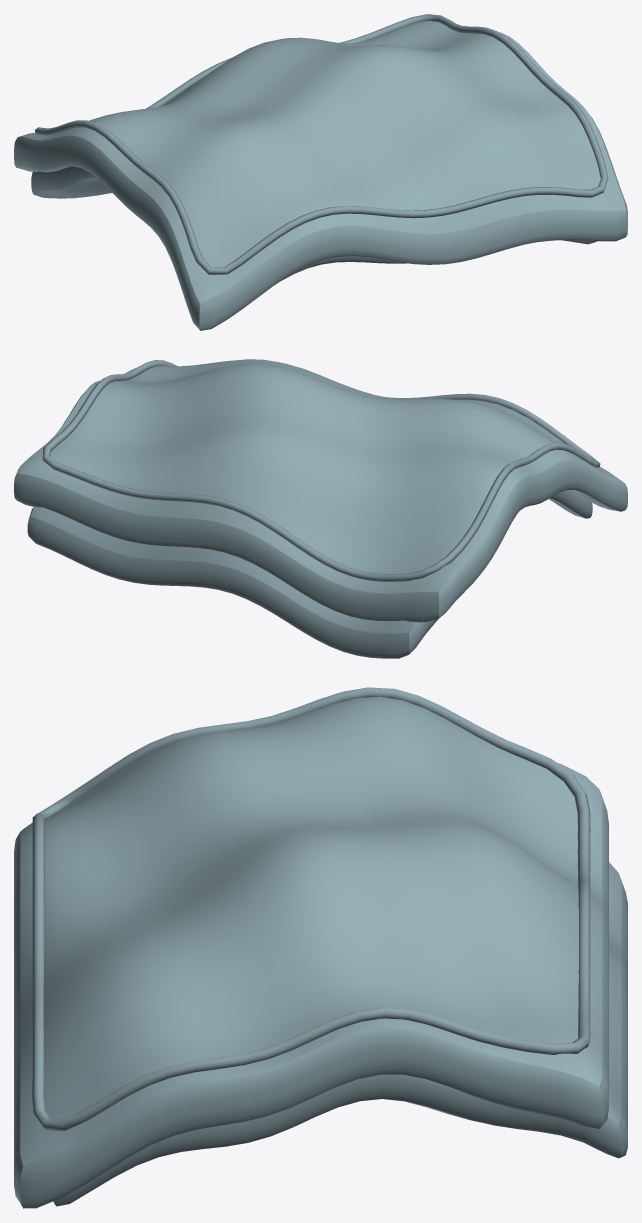
The model's file is hot-towel.glb.
The picture shows the model from 3 angles, top to bottom: view 1: azimuth 30°, elevation 25°; view 2: azimuth 150°, elevation 25°; view 3: azimuth 270°, elevation 25°; orthographic projection. The views are drawn at different scales.
Visible parts, largest first — view 1: hot-towel part 2, hot-towel part 3, hot-towel part 1; view 2: hot-towel part 2, hot-towel part 1, hot-towel part 3; view 3: hot-towel part 2, hot-towel part 3, hot-towel part 1.
Part boxes in pixels (left/top/right/bottom): hot-towel part 2: left=14, top=21, right=627, bottom=330; hot-towel part 3: left=35, top=14, right=608, bottom=274; hot-towel part 1: left=31, top=166, right=596, bottom=281; hot-towel part 2: left=14, top=359, right=627, bottom=622; hot-towel part 1: left=27, top=490, right=592, bottom=658; hot-towel part 3: left=42, top=360, right=600, bottom=581; hot-towel part 2: left=14, top=696, right=608, bottom=1208; hot-towel part 3: left=32, top=687, right=590, bottom=1130; hot-towel part 1: left=53, top=862, right=627, bottom=1206.
Size of the model in its own units: 0.1144 by 0.0407 by 0.0867.
